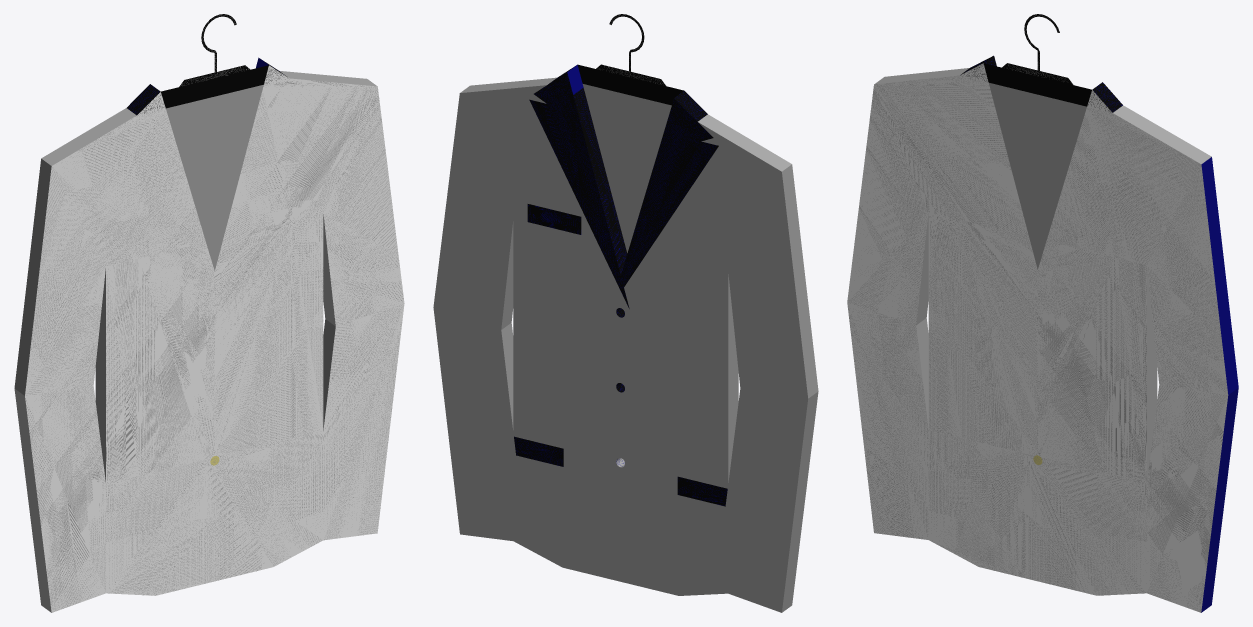
Rendered from jacket.dae.
3 renders of one model, left to right at view 1: azimuth 30°, elevation 25°; view 2: azimuth 150°, elevation 25°; view 3: azimuth 330°, elevation 25°, orthographic.
Visible parts, largest first — view 1: SketchUp (×5); view 2: SketchUp (×8); view 3: SketchUp (×7).
Boxes of the visible parts, x1,y1,x2,y2 form: SketchUp (×5): [14, 14, 404, 612]; SketchUp (×8): [433, 14, 818, 612]; SketchUp (×7): [847, 14, 1238, 612].
Bounding box in the file's own units: 20.95 × 1 × 29.84.
